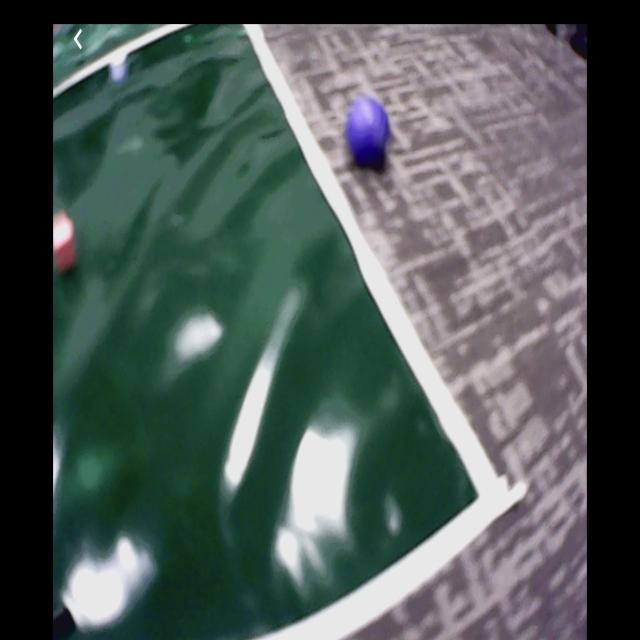ball: (350, 98, 390, 163)
